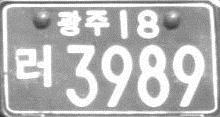1: (117, 8, 130, 40)
3: (65, 43, 98, 108)
8: (136, 44, 171, 108), (135, 8, 160, 40)
9: (172, 43, 206, 109), (100, 43, 134, 108)
광주_O: (56, 8, 110, 38)
러: (14, 43, 53, 88)
